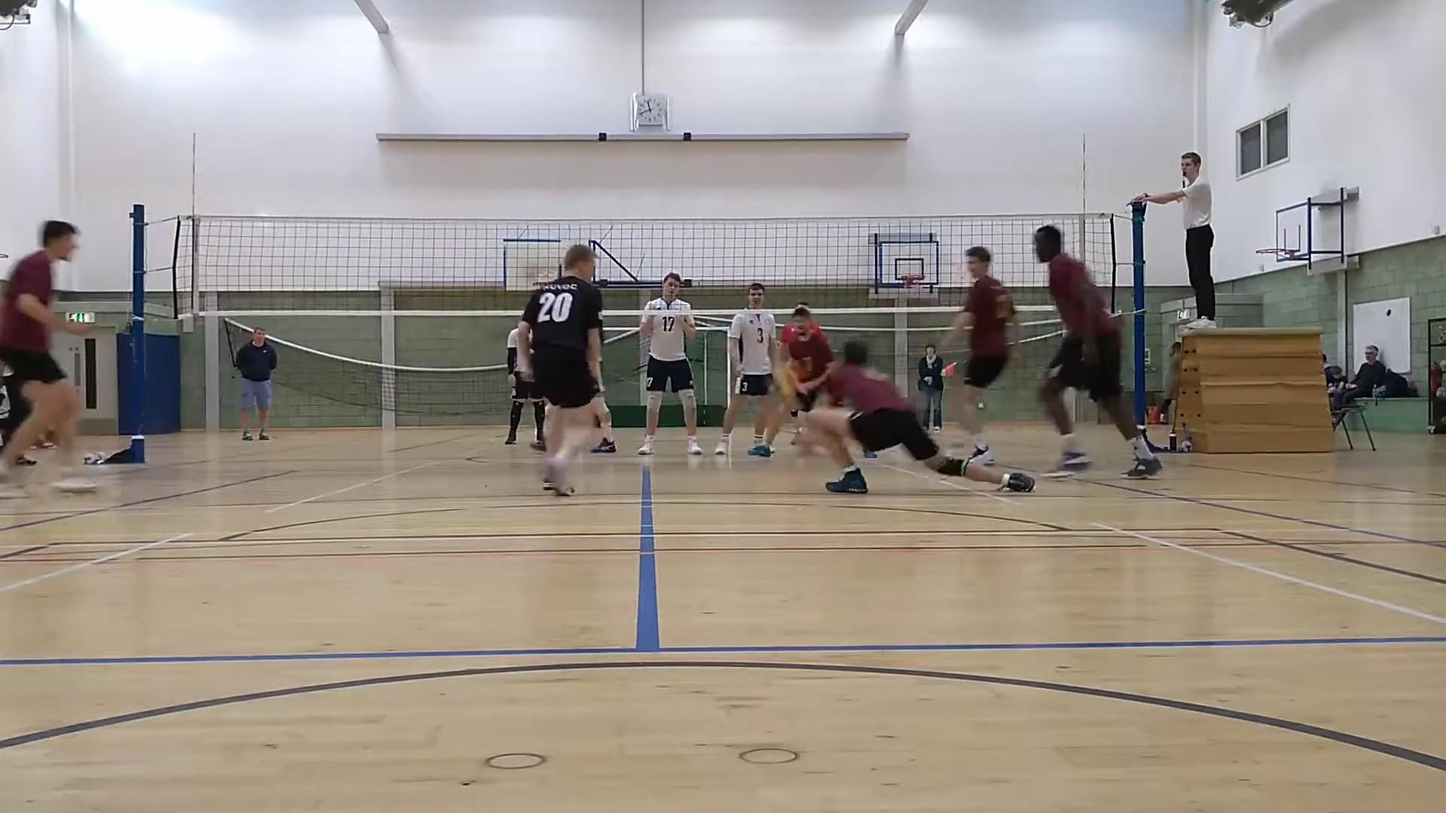Player: (1034, 225, 1161, 478), (0, 221, 96, 497), (517, 245, 602, 495), (941, 246, 1021, 464), (749, 304, 833, 456), (638, 272, 702, 455), (715, 282, 776, 455), (505, 329, 545, 450), (591, 395, 616, 453)
Receive: (784, 338, 1032, 495)
